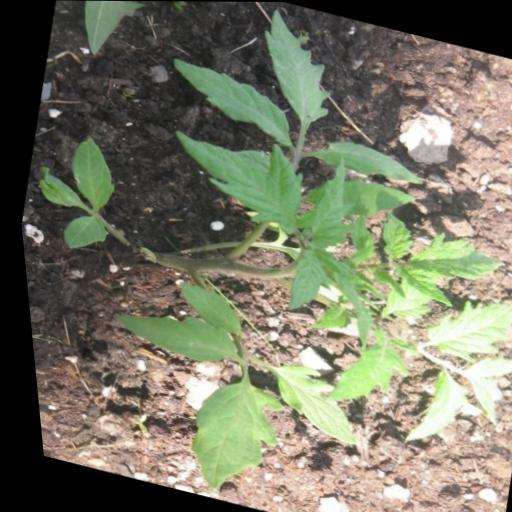Healthy: (153, 118, 314, 233), (361, 209, 511, 315), (167, 373, 287, 504), (157, 55, 304, 146), (243, 5, 350, 125), (101, 297, 238, 369), (253, 357, 364, 445), (307, 328, 412, 421), (292, 150, 373, 257), (299, 166, 417, 230), (305, 131, 426, 187), (56, 133, 124, 210), (164, 279, 246, 336), (274, 244, 336, 319), (29, 164, 88, 210), (53, 208, 108, 257)
